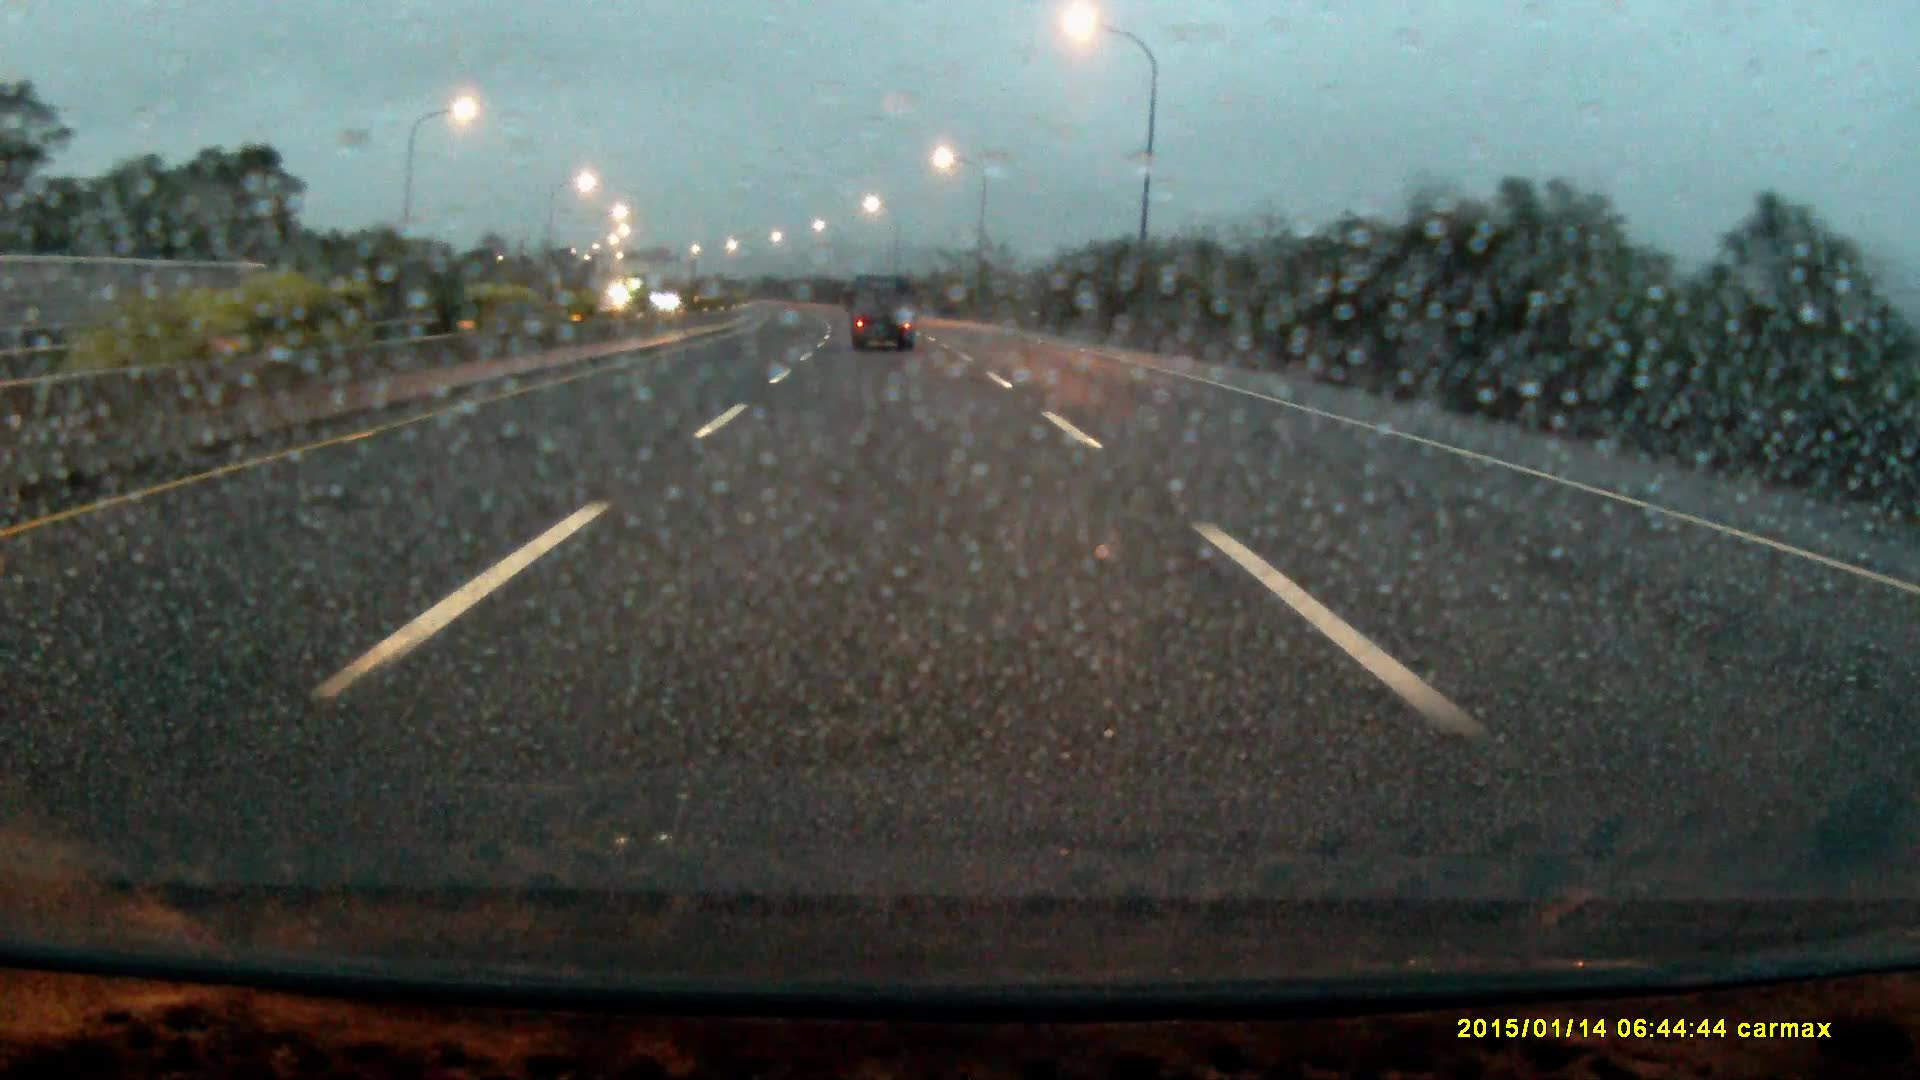vehicle: (849, 272, 919, 353)
